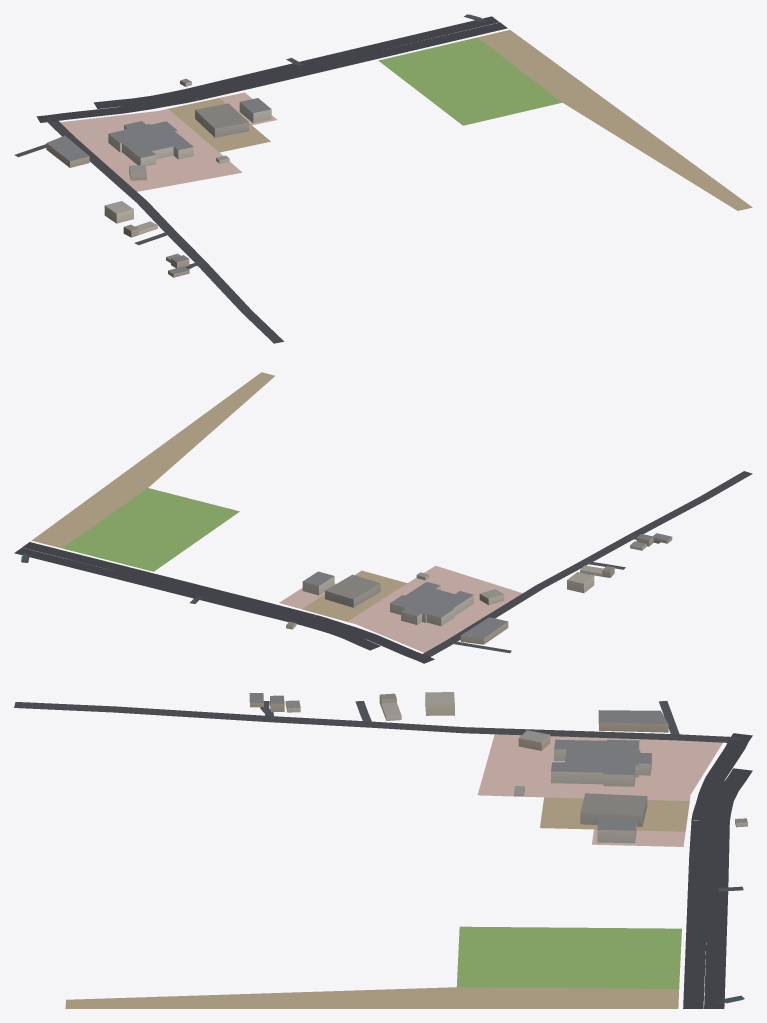
3 views of the same model, one above another, from view 1: azimuth 30°, elevation 25°; view 2: azimuth 150°, elevation 25°; view 3: azimuth 270°, elevation 25° (orthographic). The views are drawn at different scales.
Visible parts, largest first — view 1: landuse, roads, buildings_roofs, buildings_walls; view 2: landuse, roads, buildings_roofs, buildings_walls; view 3: landuse, roads, buildings_roofs, buildings_walls.
Part boxes in pixels (x1,y1,x2,y2): landuse: (60,30,752,210); roads: (14,14,507,343); buildings_roofs: (47,78,271,274); buildings_walls: (46,80,271,277); landuse: (32,372,522,652); roads: (14,471,752,663); buildings_roofs: (286,533,671,638); buildings_walls: (286,537,672,644); landuse: (65,734,722,1008); roads: (14,701,752,1008); buildings_roofs: (249,692,747,830); buildings_walls: (249,694,747,843).
Bounding box in the file's own units: 507 × 9.6 × 507.
